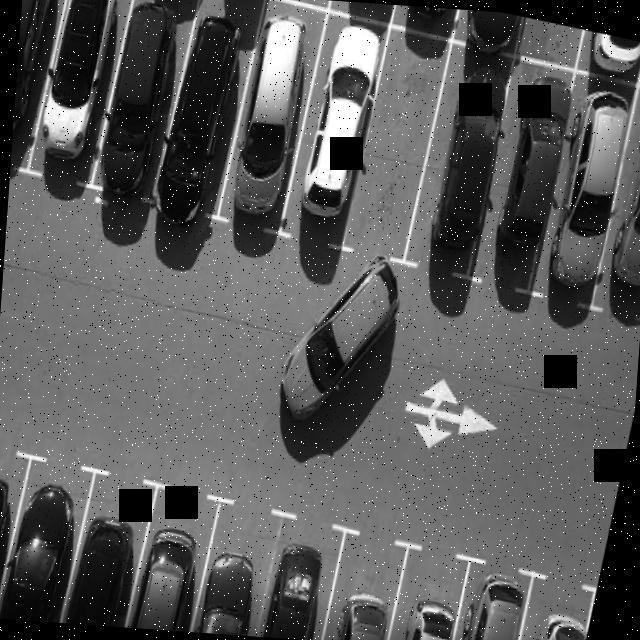car: (281, 8, 394, 255), (404, 48, 518, 282), (469, 61, 579, 296), (528, 69, 640, 298), (218, 0, 328, 224), (153, 0, 264, 208), (94, 0, 197, 199), (37, 0, 138, 171), (57, 466, 162, 629), (0, 454, 99, 624), (122, 484, 226, 634), (183, 497, 290, 638), (586, 89, 640, 322), (246, 516, 346, 640), (10, 0, 77, 175), (306, 528, 408, 640), (372, 538, 470, 640), (436, 560, 538, 640), (0, 434, 40, 620), (500, 573, 596, 640), (570, 28, 640, 81), (452, 8, 523, 54), (388, 4, 459, 45), (329, 0, 394, 22)
free: (342, 29, 452, 268), (517, 17, 581, 71), (265, 0, 336, 6)
